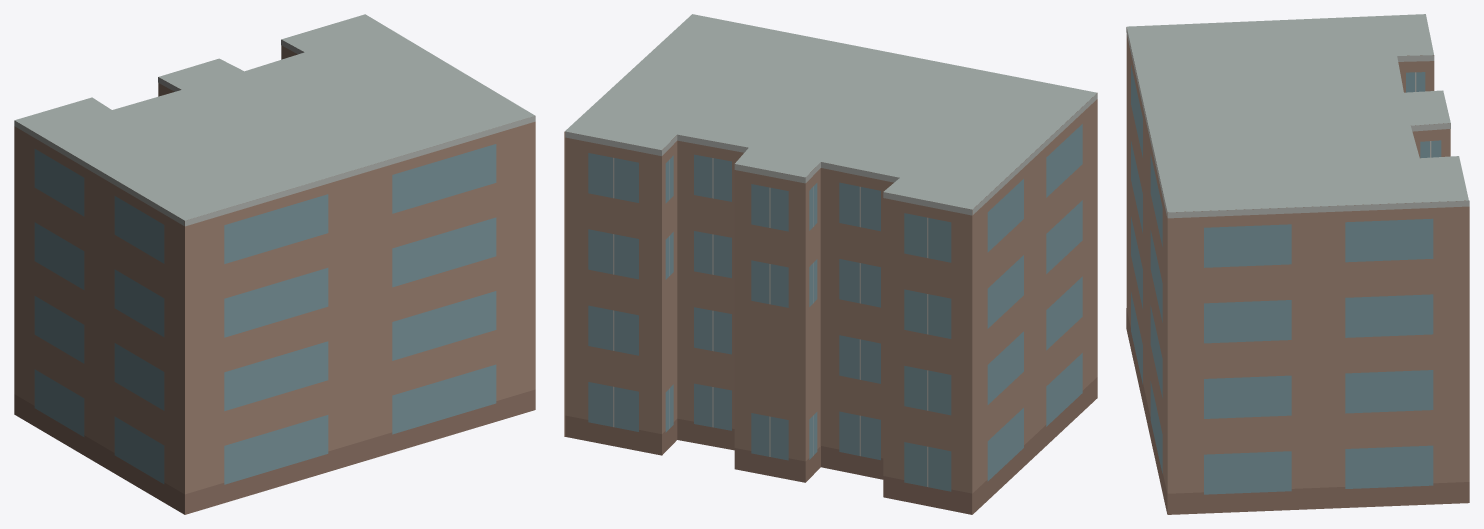
The model's file is survey-upis-32953325.glb.
The picture shows the model from 3 angles, left to right: view 1: azimuth 30°, elevation 25°; view 2: azimuth 150°, elevation 25°; view 3: azimuth 270°, elevation 25°; orthographic projection. The views are drawn at different scales.
Parts seen in each view (by area): view 1: survey-upis-32953325.tmp; view 2: survey-upis-32953325.tmp; view 3: survey-upis-32953325.tmp.
Boxes of the visible parts, x1,y1,x2,y2 form: survey-upis-32953325.tmp: [14, 14, 535, 514]; survey-upis-32953325.tmp: [564, 14, 1097, 514]; survey-upis-32953325.tmp: [1126, 14, 1469, 514].
Size of the model in its own units: 17.46 by 12.4 by 12.75.
